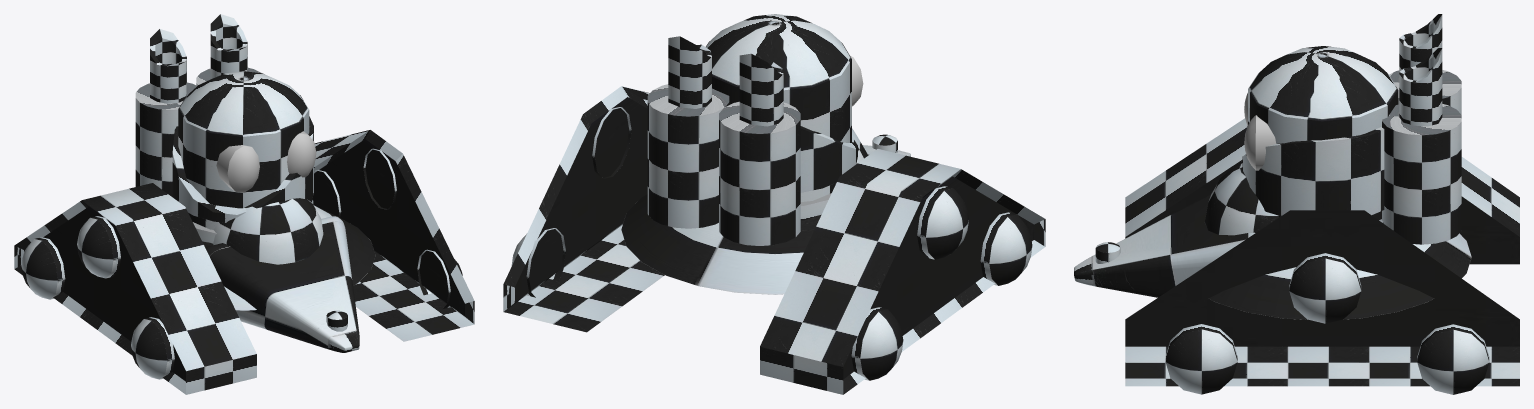
Rendered from TankCurved.FBX.
3 views of the same model, side by side, from view 1: azimuth 30°, elevation 25°; view 2: azimuth 150°, elevation 25°; view 3: azimuth 270°, elevation 25° (orthographic). The views are drawn at different scales.
Visible parts, largest first — view 1: TankWheelRight, TankBody, TankWheelLeft, TankBase, TankBattery; view 2: TankWheelRight, TankBattery, TankWheelLeft, TankBody, TankBase; view 3: TankWheelLeft, TankBody, TankBase, TankBattery, TankWheelRight.
Boxes of the visible parts, <box> form: TankWheelRight: <box>14,183,256,394</box>; TankBody: <box>172,71,323,264</box>; TankWheelLeft: <box>312,130,474,341</box>; TankBase: <box>202,205,375,352</box>; TankBattery: <box>135,14,261,197</box>; TankWheelRight: <box>760,149,1045,394</box>; TankBattery: <box>647,36,800,245</box>; TankWheelLeft: <box>503,86,664,332</box>; TankBody: <box>706,14,867,220</box>; TankBase: <box>621,134,910,294</box>; TankWheelLeft: <box>1125,210,1519,394</box>; TankBody: <box>1205,46,1398,235</box>; TankBase: <box>1074,193,1471,319</box>; TankBattery: <box>1382,14,1461,244</box>; TankWheelRight: <box>1125,118,1519,264</box>.
Bounding box in the file's own units: 22.81 × 23.73 × 16.52.
